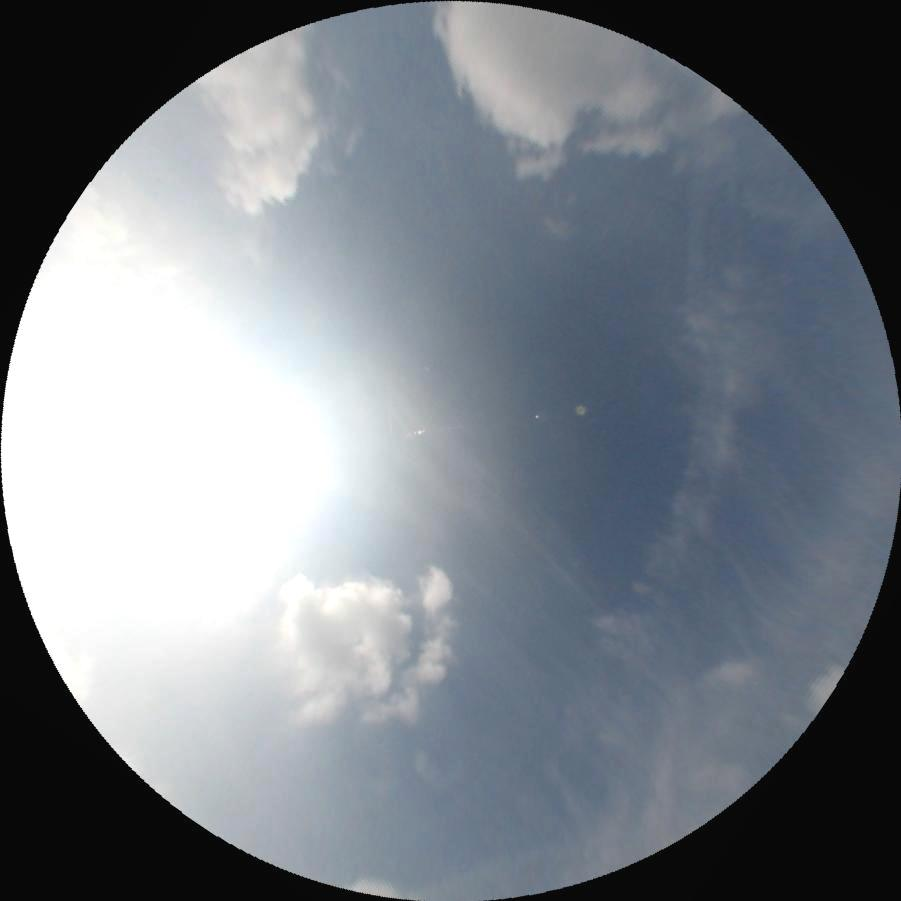contrail veryold: (634, 172, 765, 607)
sun: (79, 339, 339, 593)
